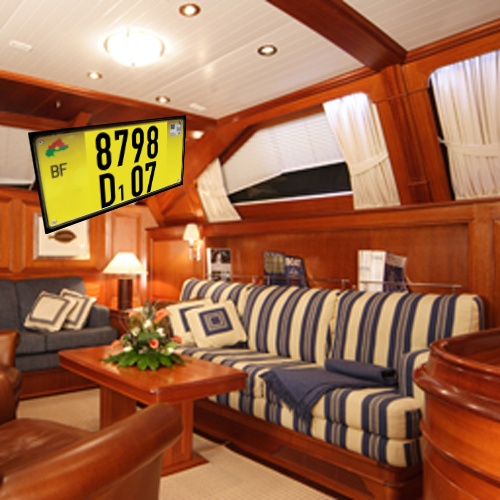plate: (22, 113, 195, 237)
